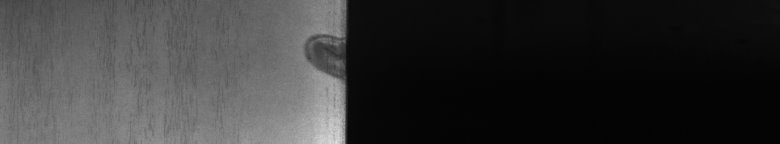hb: (300, 28, 336, 84)
